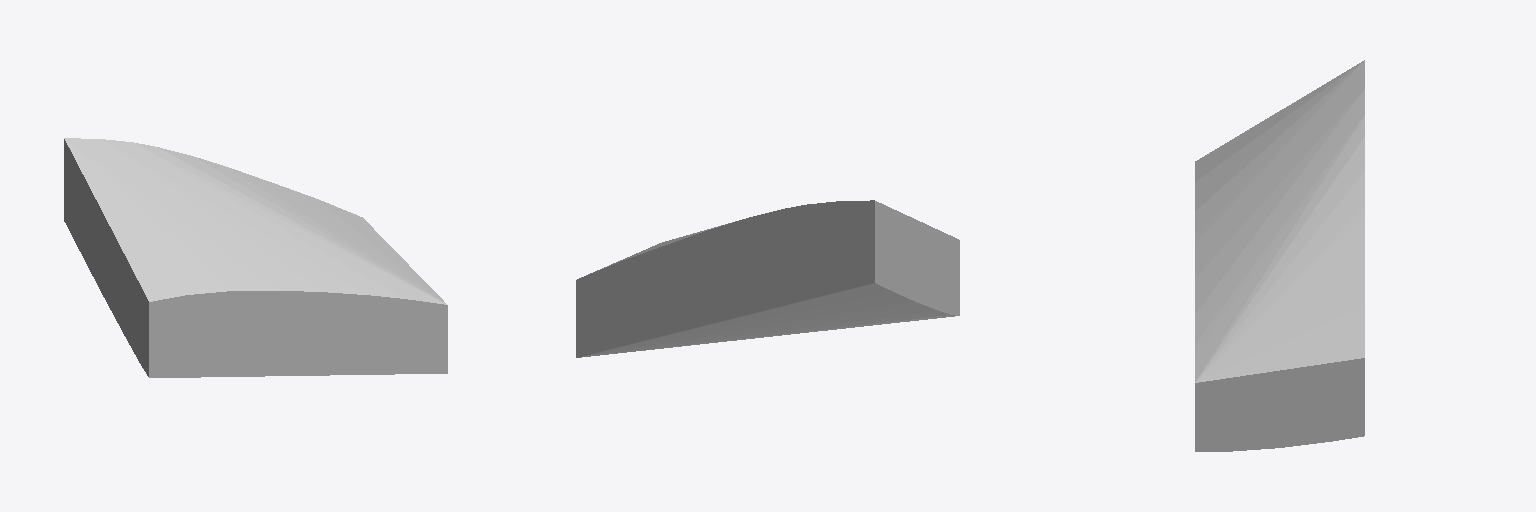
The model's file is phantom-elastrat_collision_223.obj.
3 renders of one model, left to right at view 1: azimuth 30°, elevation 25°; view 2: azimuth 150°, elevation 25°; view 3: azimuth 270°, elevation 25°, orthographic.
Bounding box in the file's own units: 0.0077 × 0.006 × 0.0038.